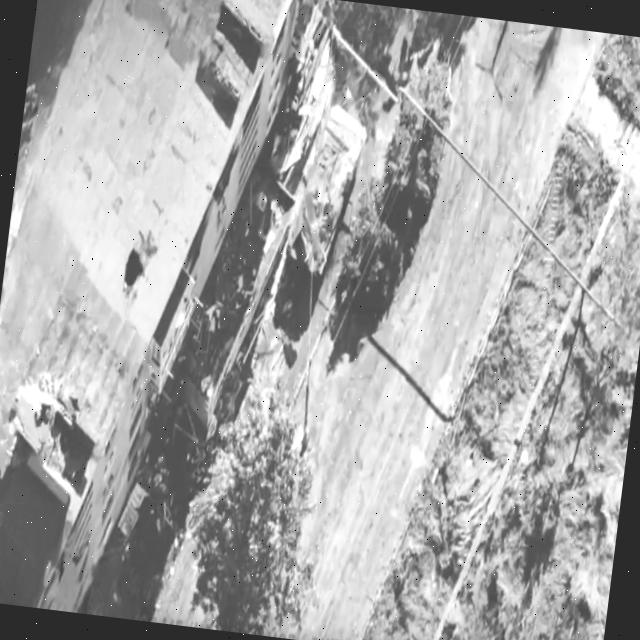AIFV: (281, 99, 374, 283)
